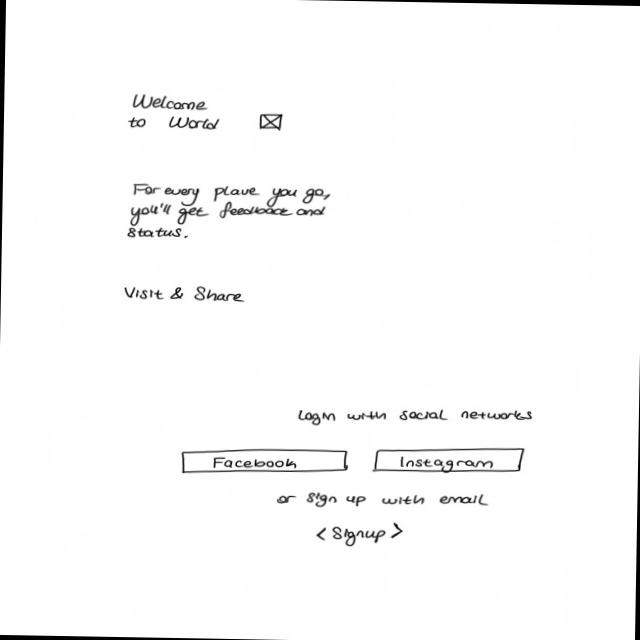button: (372, 444, 528, 477), (181, 447, 350, 477)
image: (259, 113, 285, 131)
label: (126, 182, 332, 245), (298, 406, 535, 431), (276, 489, 492, 510), (127, 92, 222, 132), (123, 284, 251, 306)
link: (315, 520, 405, 549)
